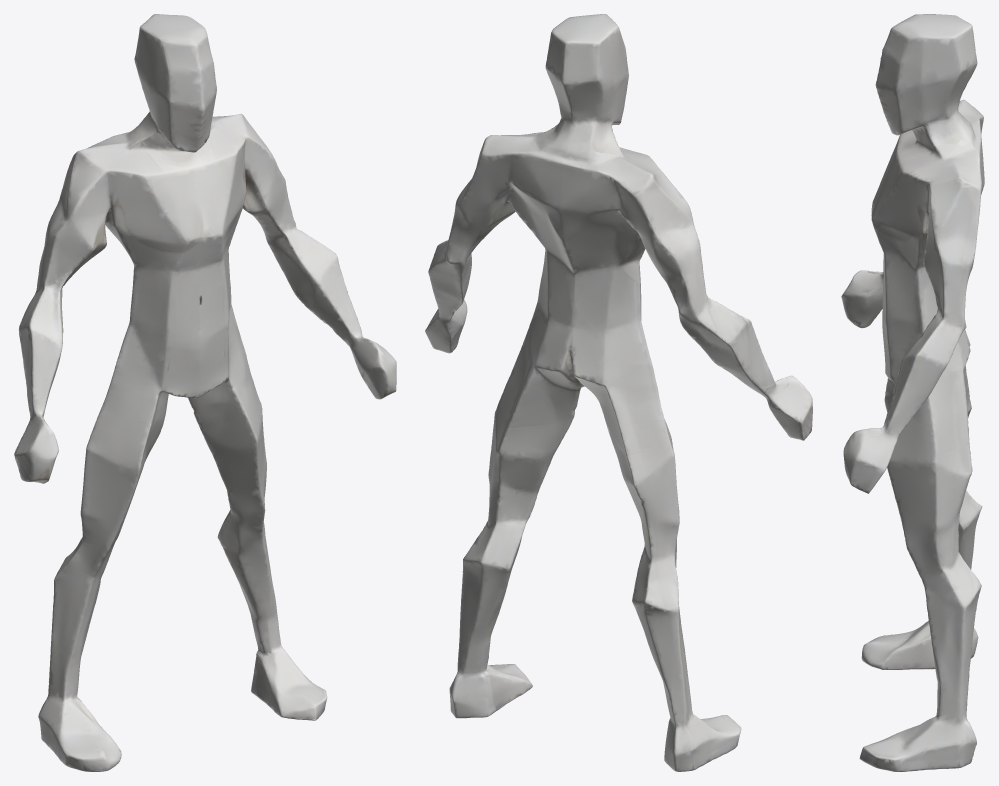
Rendered from LowPolyHuman_0826020647_texture.fbx.
3 renders of one model, left to right at view 1: azimuth 30°, elevation 25°; view 2: azimuth 150°, elevation 25°; view 3: azimuth 270°, elevation 25°, orthographic. The views are drawn at different scales.
Parts seen in each view (by area): view 1: input; view 2: input; view 3: input.
Boxes of the visible parts, left/top/right/bottom form: input: left=14, top=14, right=396, bottom=771; input: left=425, top=14, right=812, bottom=771; input: left=841, top=14, right=984, bottom=771.
Bounding box in the file's own units: 55.69 × 100 × 18.86.
1 material, 1 textured.
